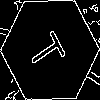T: (25, 25, 74, 74)
